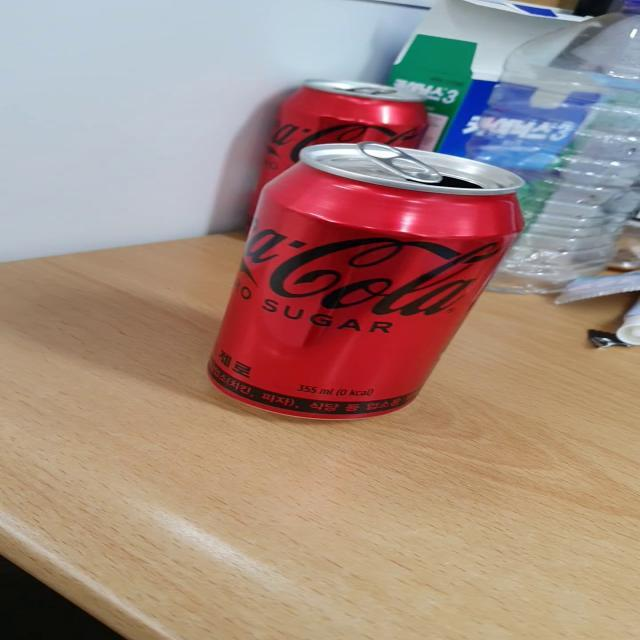coca-cola: (198, 137, 522, 450)
